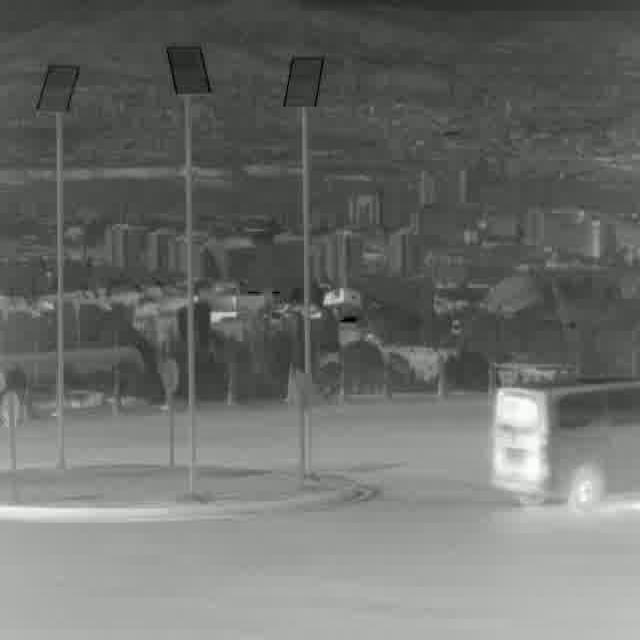Car: (489, 378, 640, 505)
